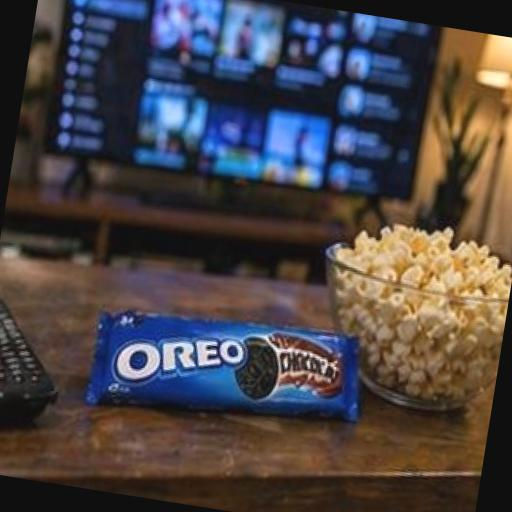oreo: (39, 206, 414, 482)
